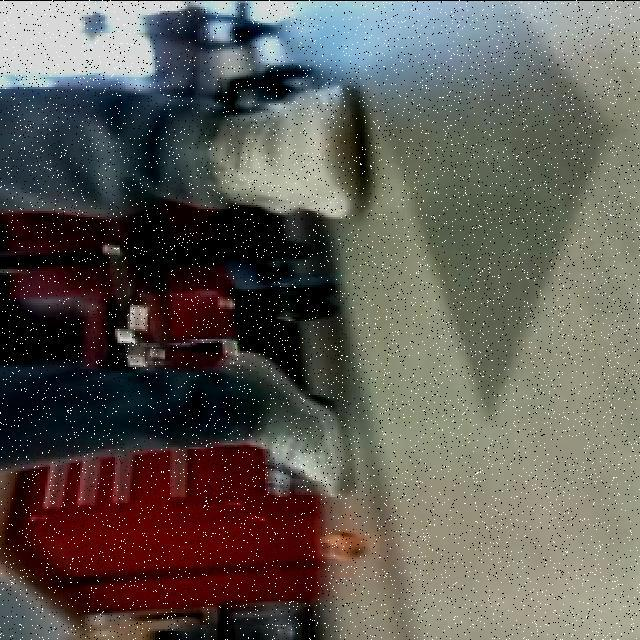ping-pong-ball: (316, 528, 369, 564)
